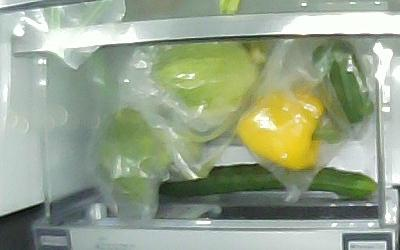broccoli_vinyl: (94, 109, 199, 204)
cucumber_vinyl: (159, 163, 378, 200)
lettuce_vinyl: (148, 40, 267, 125)
paprika_vinyl: (237, 90, 339, 171), (312, 37, 375, 123)
